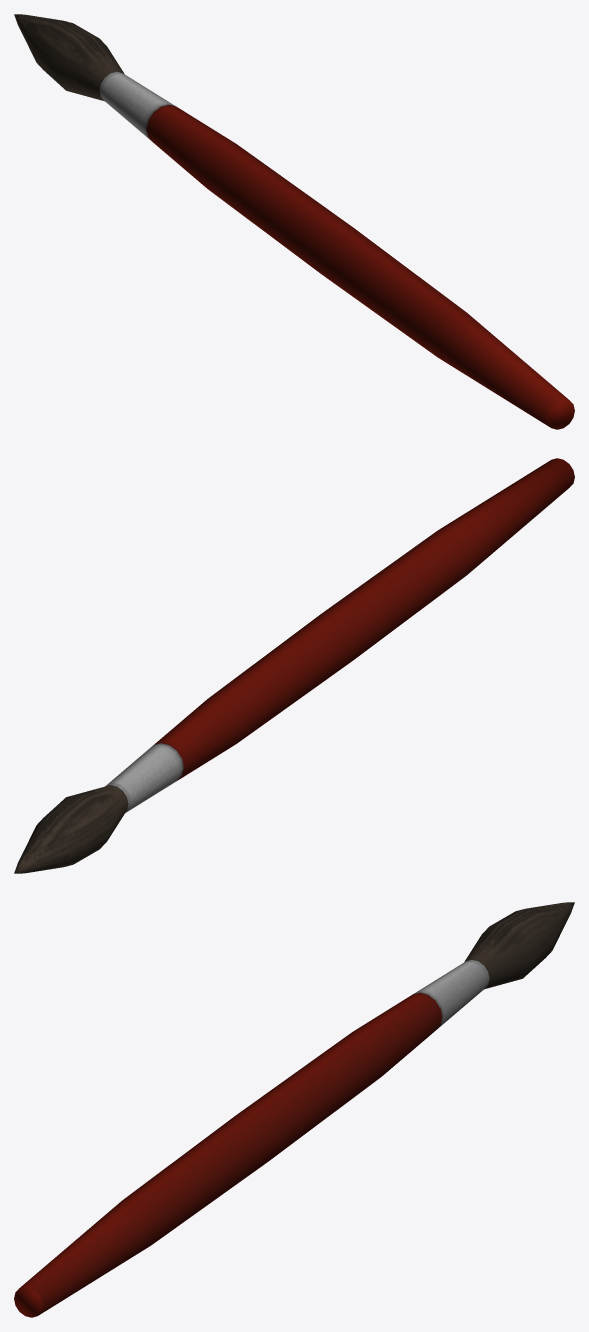
Rendered from brushes_02.fbx.
3 views of the same model, one above another, from view 1: azimuth 30°, elevation 25°; view 2: azimuth 150°, elevation 25°; view 3: azimuth 330°, elevation 25° (orthographic).
Parts seen in each view (by area): view 1: brushes_02; view 2: brushes_02; view 3: brushes_02.
Part boxes in pixels (x1,y1,x2,y2): brushes_02: (14,14,574,429); brushes_02: (14,458,574,873); brushes_02: (14,902,574,1317).
Size of the model in its own units: 2.73 by 2.66 by 47.91.
